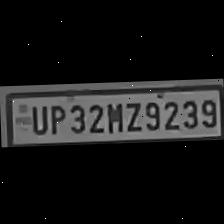2: (84, 98, 104, 132), (159, 96, 179, 130)
3: (65, 100, 85, 134), (178, 95, 198, 128)
9: (197, 94, 217, 128), (140, 96, 160, 129)
M: (102, 97, 122, 132)
P: (46, 100, 64, 134)
U: (27, 101, 47, 134)
Z: (121, 98, 141, 132)
